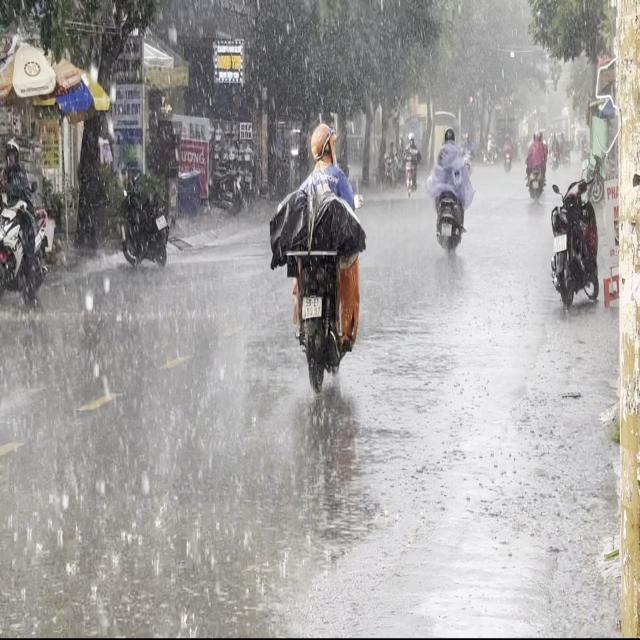helmet: (310, 123, 335, 167)
licenseplate: (275, 119, 366, 395)
nohelmet: (302, 295, 321, 317)
